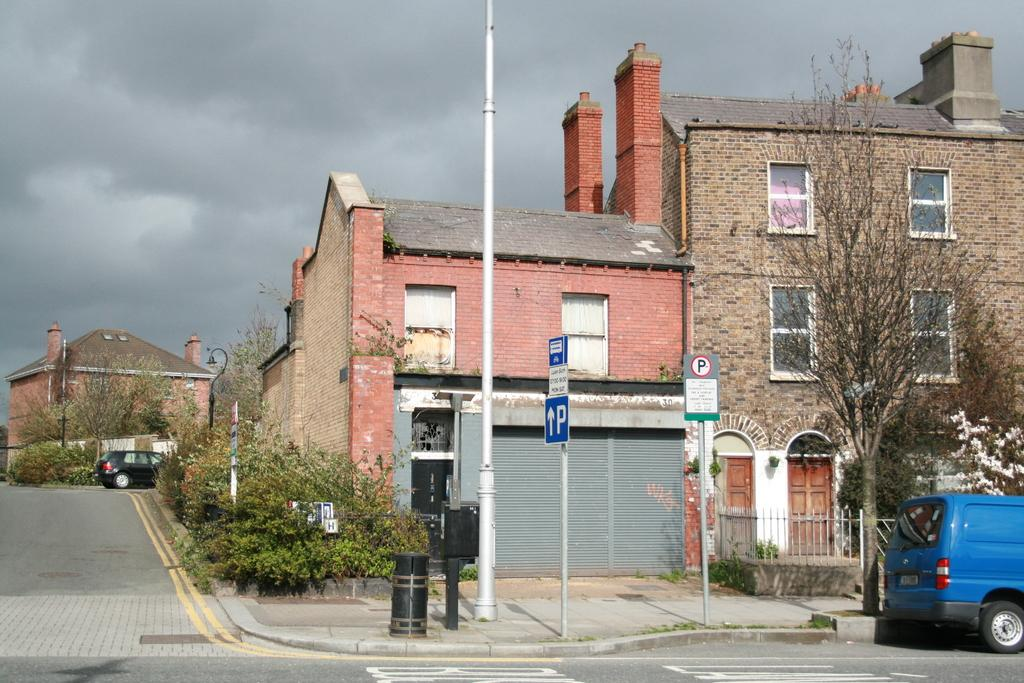vehicle: (880, 493, 1024, 654), (96, 450, 166, 489)
